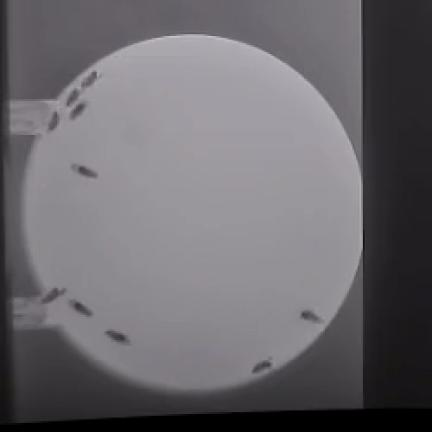fly: (40, 288, 67, 304), (70, 299, 93, 316), (71, 164, 98, 178), (106, 330, 131, 345), (70, 101, 88, 120), (253, 359, 273, 374), (301, 310, 323, 323), (82, 71, 98, 88), (66, 89, 79, 106), (49, 112, 60, 131)
